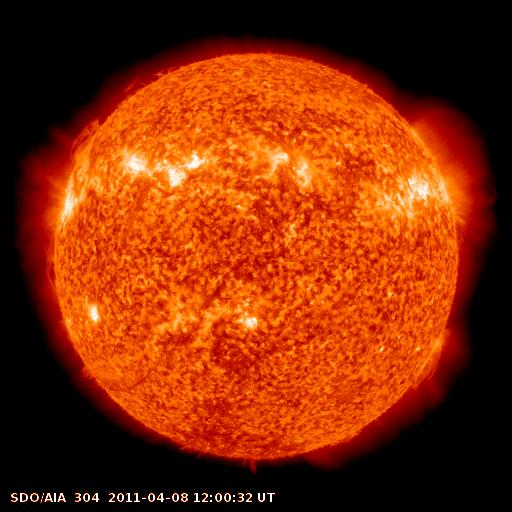prominence: (62, 55, 193, 169), (403, 322, 466, 400), (32, 233, 72, 300), (70, 358, 113, 403), (323, 425, 370, 453)
